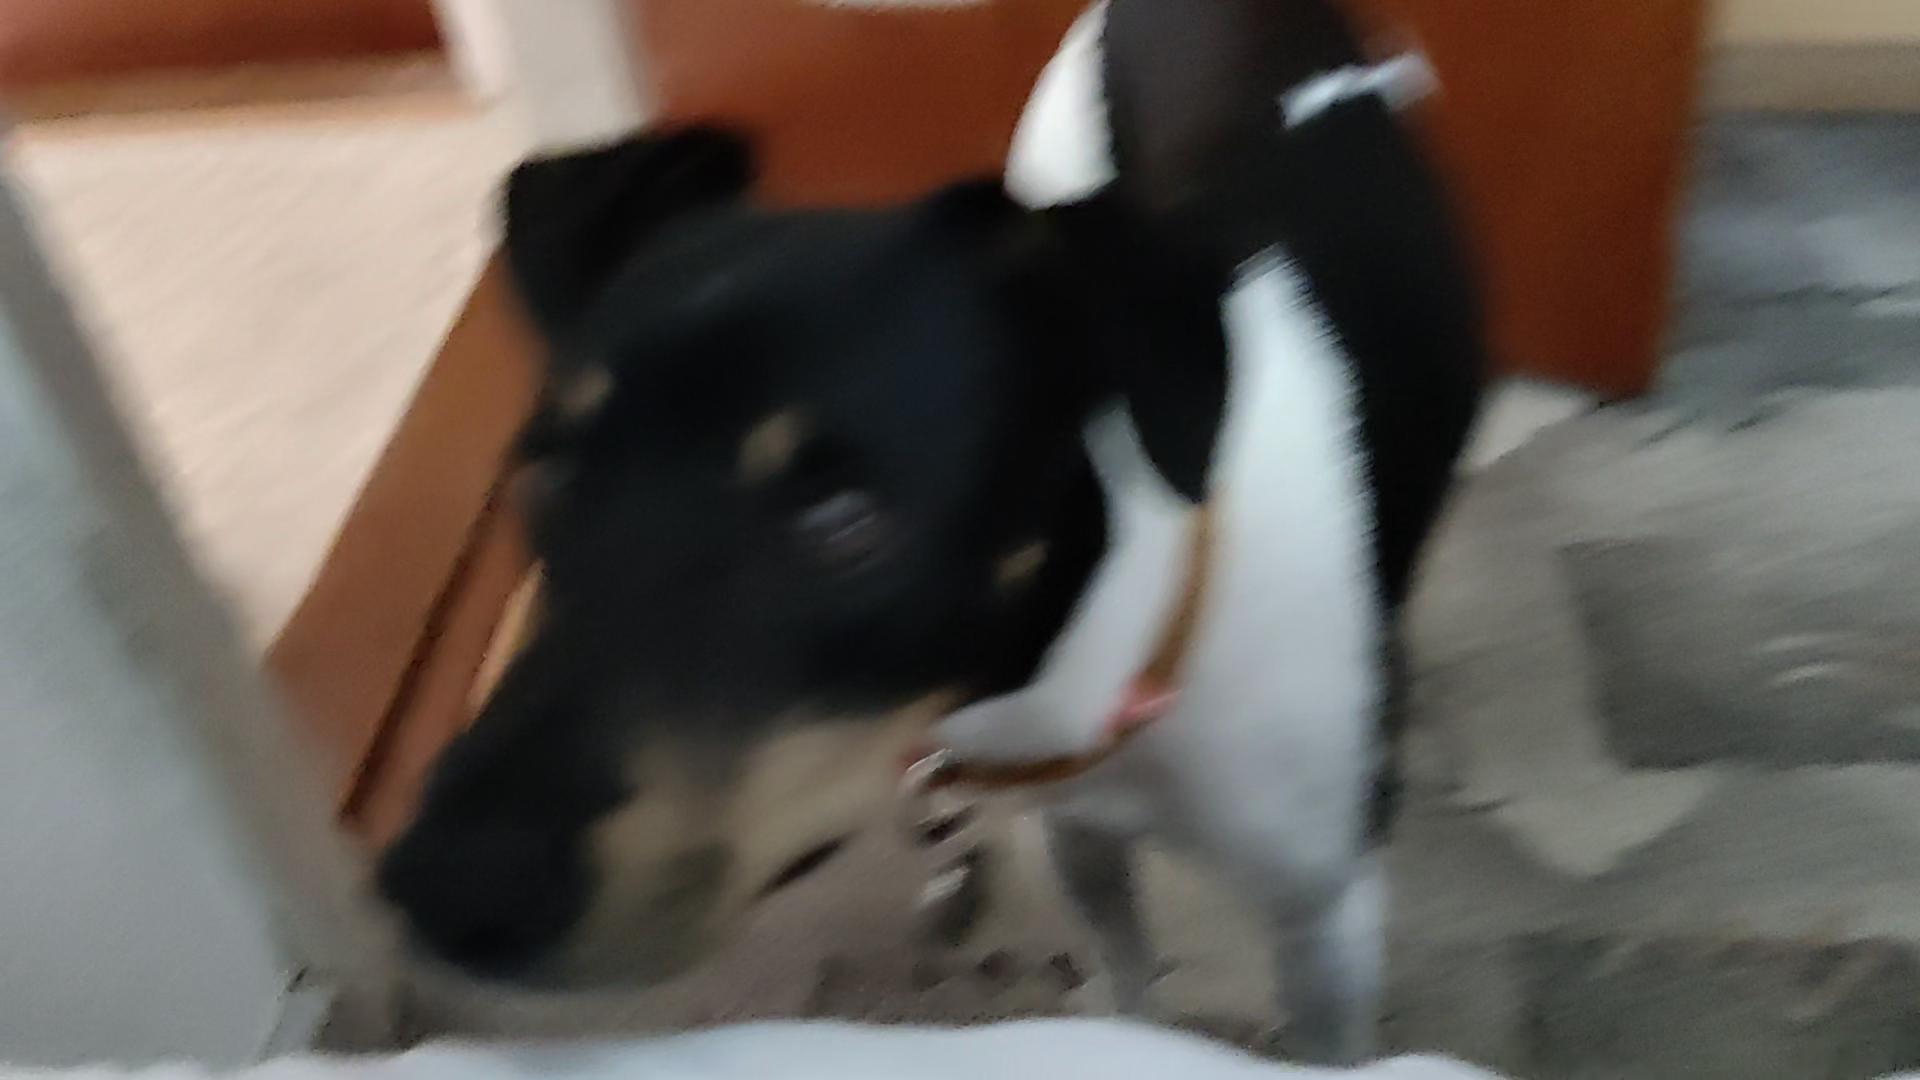Dog: (353, 0, 1563, 1080)
